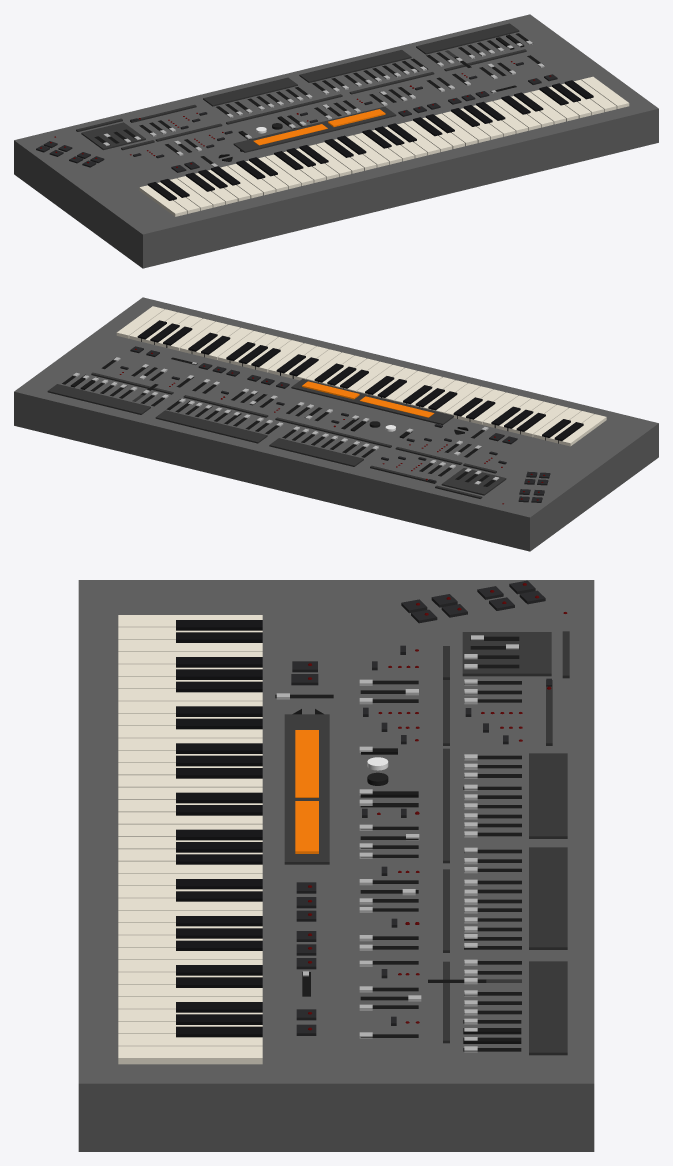
Rendered from Use_this_final_coloured (1).glb.
3 renders of one model, top to bottom at view 1: azimuth 30°, elevation 25°; view 2: azimuth 150°, elevation 25°; view 3: azimuth 270°, elevation 25°, orthographic. The views are drawn at different scales.
Visible parts, largest first — view 1: synth_body.1, panel1.1, panel3, panel3.1, panel2, panel1, Key_C1, Key_C6, panel1.2, Key_F1, Key_F4, Key_F5 (+18 smaller); view 2: synth_body.1, panel1.1, panel3, panel3.1, panel2, panel1, Key_C1, Key_C6, panel1.2, Key_F1, Key_F4, Key_F5 (+14 smaller); view 3: synth_body.1, panel1.1, panel3, panel3.1, panel2, panel1, Key_C6, panel1.2, Key_E3, Key_B3, Key_B2, Key_E2 (+58 smaller).
Boxes of the visible parts, x1,y1,x2,y2 form: synth_body.1: [14, 14, 658, 268]; panel1.1: [233, 106, 396, 152]; panel3: [299, 50, 411, 82]; panel3.1: [416, 23, 519, 54]; panel2: [203, 77, 297, 106]; panel1: [81, 122, 145, 150]; Key_C1: [139, 185, 187, 216]; Key_C6: [581, 76, 629, 108]; panel1.2: [253, 124, 327, 145]; Key_F1: [177, 176, 225, 207]; Key_F4: [442, 111, 490, 142]; Key_F5: [530, 90, 578, 121]; synth_body.1: [14, 297, 658, 551]; panel1.1: [291, 379, 453, 425]; panel3: [155, 410, 267, 443]; panel3.1: [47, 384, 150, 414]; panel2: [269, 438, 363, 466]; panel1: [441, 468, 506, 495]; Key_C1: [558, 414, 606, 446]; Key_C6: [116, 306, 164, 338]; panel1.2: [360, 396, 434, 417]; Key_F1: [520, 405, 568, 437]; Key_F4: [255, 340, 303, 372]; Key_F5: [167, 318, 215, 350]; synth_body.1: [78, 580, 594, 1151]; panel1.1: [284, 714, 329, 864]; panel3: [529, 847, 567, 949]; panel3.1: [529, 961, 567, 1055]; panel2: [529, 753, 567, 838]; panel1: [462, 632, 551, 676]; Key_C6: [118, 1046, 262, 1064]; panel1.2: [295, 730, 318, 797]; Key_E3: [118, 812, 262, 824]; Key_B3: [118, 861, 262, 873]; Key_B2: [118, 775, 262, 787]; Key_E2: [118, 726, 262, 738].
Size of what is drawn, in the model's own units: 7.96 by 0.6379 by 3.44.
